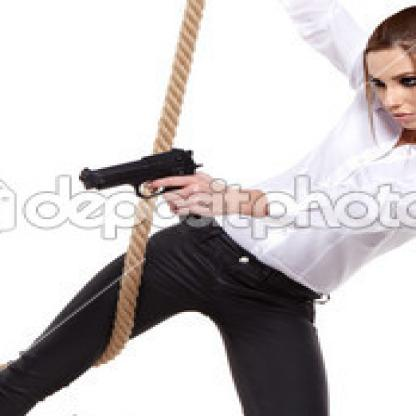gun: (64, 138, 224, 228)
